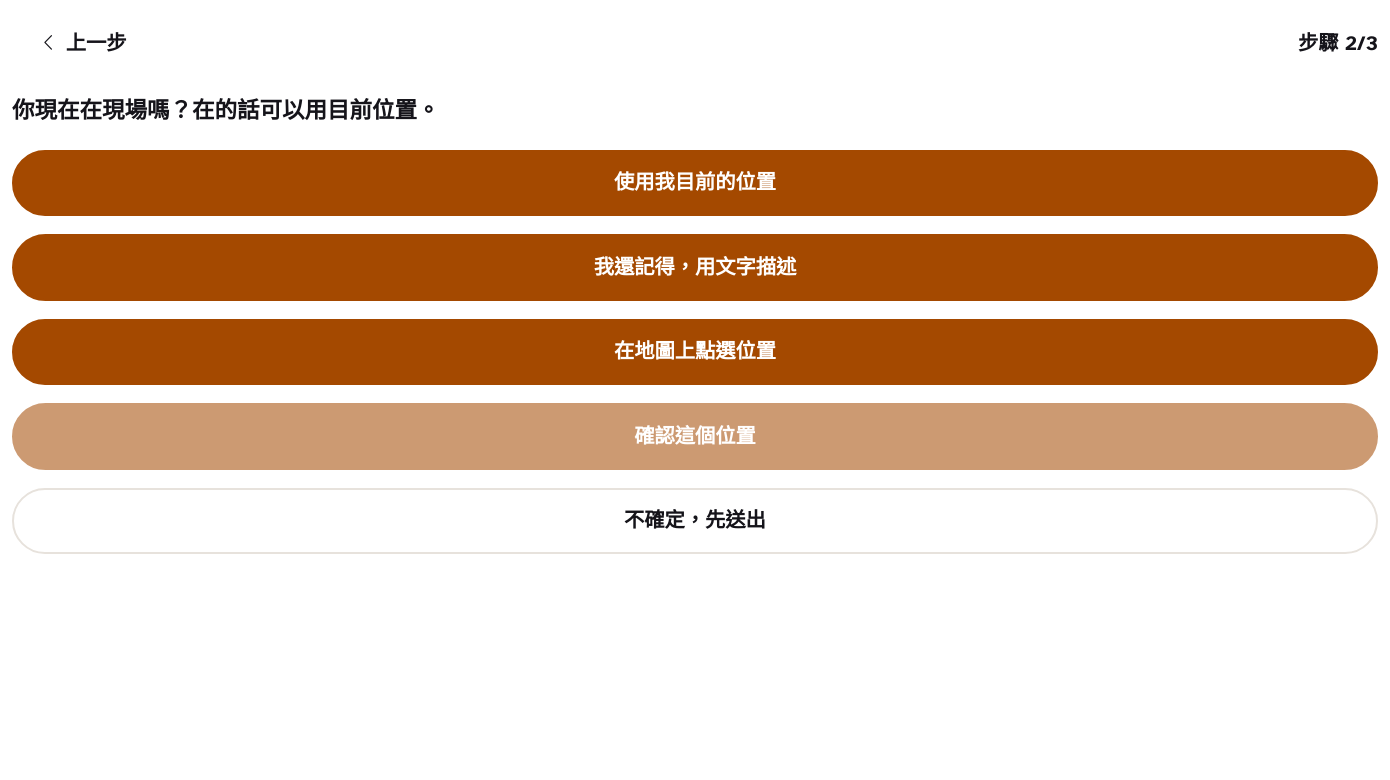
Test: LocationStep（P2 確認位置） › 開地圖但未放置圖釘：維持未確認、不自動確認
Click the button "在地圖上點選位置": x=695, y=352 top-left (12, 319), bottom-right (1378, 385)
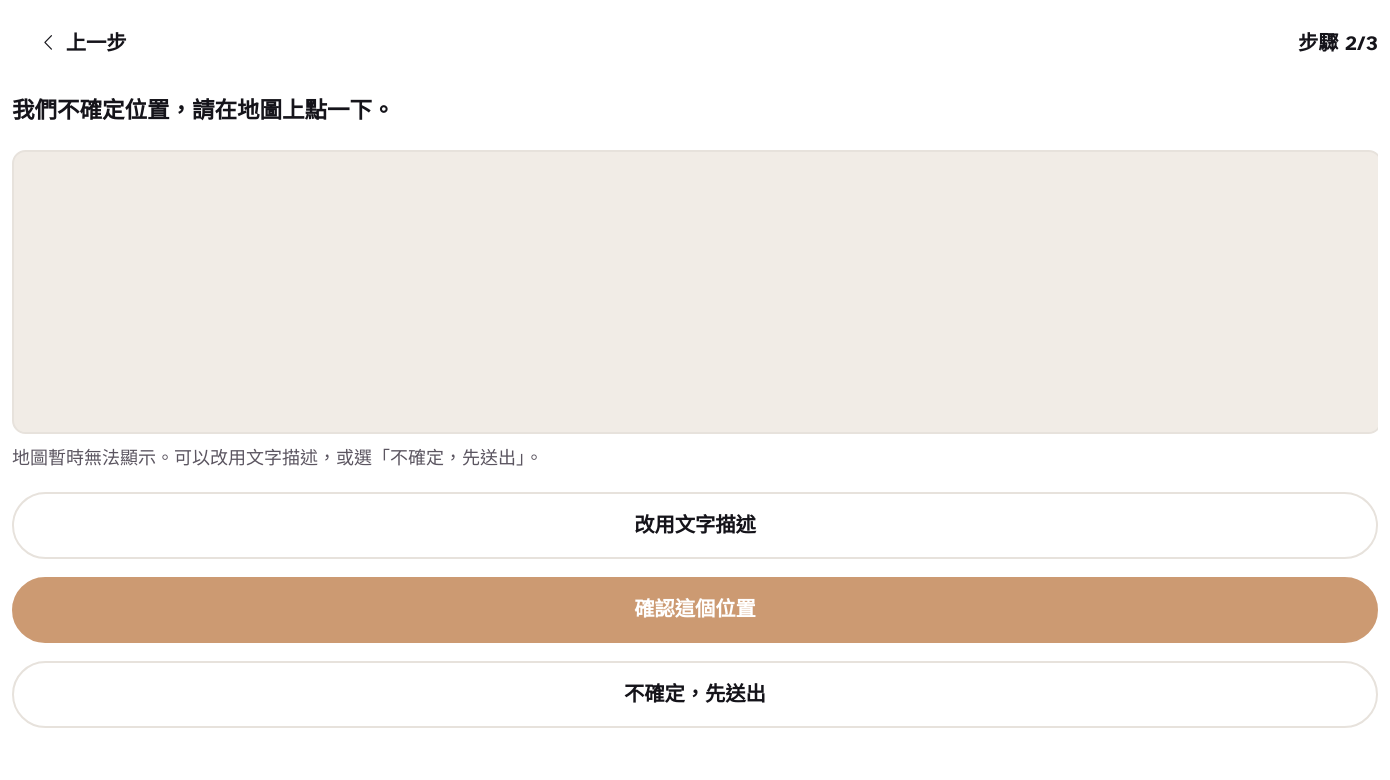
Now the element showing "地圖暫時無法顯示。可以改用文字描述，或選「不確定，先送出」。" is shown, box top-left (12, 150), bottom-right (1378, 474)
